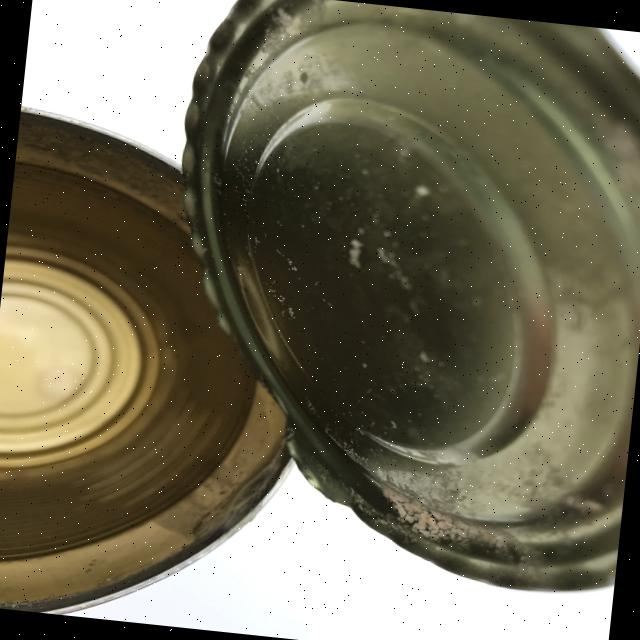metal: (137, 0, 640, 600), (0, 105, 327, 635)
